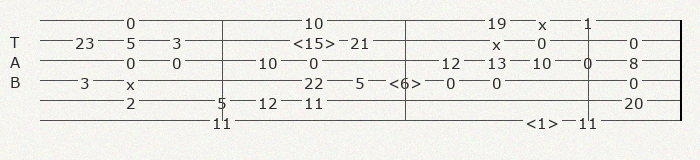0: (126, 13, 140, 28), (126, 53, 140, 68), (172, 53, 186, 68), (309, 53, 323, 68), (446, 73, 460, 88), (492, 73, 506, 88), (537, 33, 551, 48), (583, 53, 597, 68), (629, 73, 643, 88), (629, 33, 643, 48)
1: (583, 13, 597, 28)
10: (258, 53, 282, 68), (304, 13, 328, 28), (532, 53, 556, 68)
11: (212, 113, 236, 128), (304, 93, 328, 108), (578, 113, 602, 128)
12: (258, 93, 282, 108), (441, 53, 465, 68)
13: (487, 53, 511, 68)
19: (487, 13, 511, 28)
2: (126, 93, 140, 108)
20: (624, 93, 648, 108)
21: (350, 33, 374, 48)
22: (304, 73, 328, 88)
23: (75, 33, 99, 48)
3: (80, 73, 94, 88), (172, 33, 186, 48)
5: (126, 33, 140, 48), (217, 93, 231, 108), (355, 73, 369, 88)
8: (629, 53, 643, 68)
harmonic: (292, 33, 340, 48), (388, 73, 426, 88), (525, 113, 563, 128)
x: (126, 74, 139, 86), (492, 34, 505, 46), (538, 14, 551, 26)
